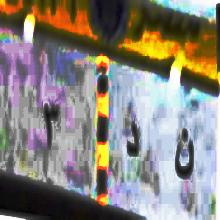3: (39, 91, 64, 159)
daal: (123, 110, 143, 170)
noon: (169, 124, 198, 186)
